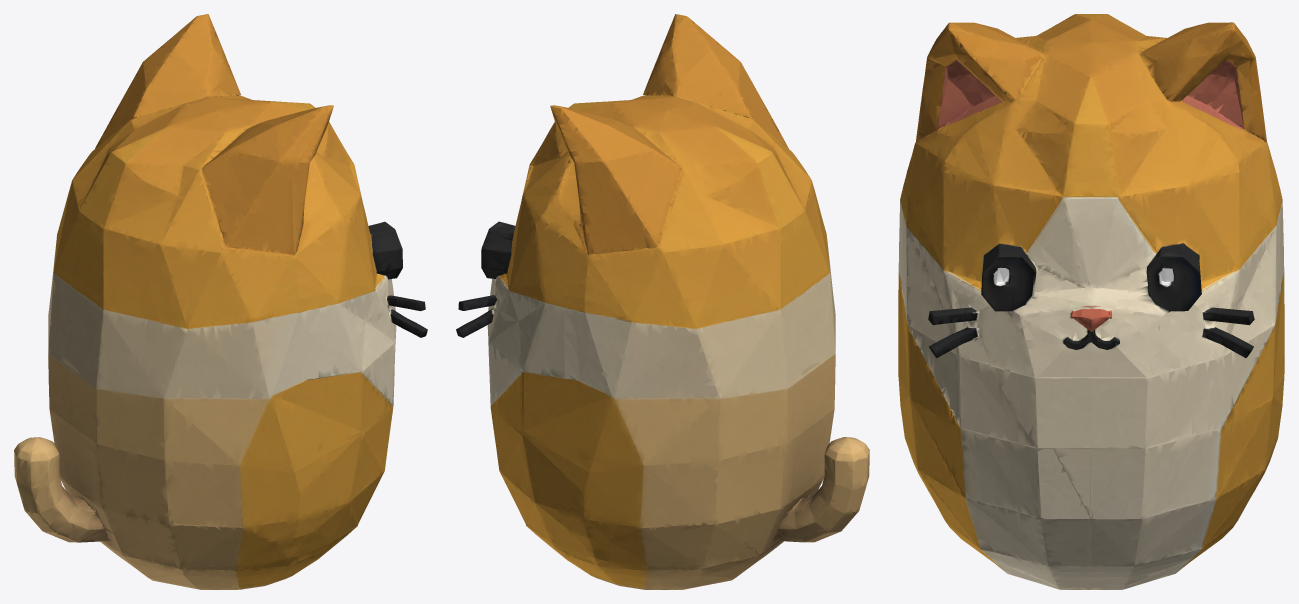
File: cat.fbx
The picture shows the model from 3 angles, left to right: view 1: azimuth 30°, elevation 25°; view 2: azimuth 150°, elevation 25°; view 3: azimuth 270°, elevation 25°; orthographic projection. The views are drawn at different scales.
Parts seen in each view (by area): view 1: tripo_node_5fb6d897; view 2: tripo_node_5fb6d897; view 3: tripo_node_5fb6d897.
Part boxes in pixels (box(x1,y1,x2,y2)): tripo_node_5fb6d897: box(14, 14, 427, 589); tripo_node_5fb6d897: box(456, 14, 869, 589); tripo_node_5fb6d897: box(898, 14, 1284, 589).
Bounding box in the file's own units: 78.39 × 97.82 × 62.98.
